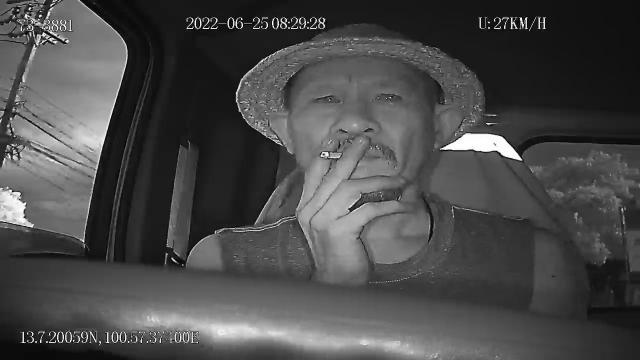SafeDriving: (305, 82, 346, 112), (368, 82, 409, 108)
Smoking: (318, 148, 344, 162)
